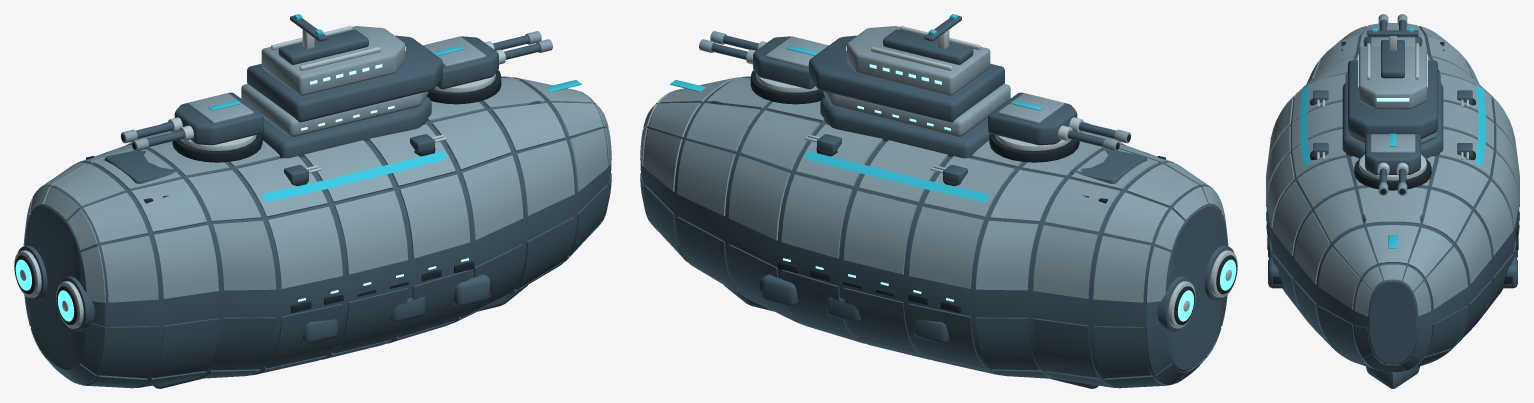
File: capital-warship.glb
3 renders of one model, left to right at view 1: azimuth 30°, elevation 25°; view 2: azimuth 150°, elevation 25°; view 3: azimuth 270°, elevation 25°, orthographic. The views are drawn at different scales.
Visible parts, largest first — view 1: Citadel / armored command deck.002, Battery A / turret armor.002, Battery A / barrel.004, Battery A / barbette.002, Battery A / gun cradle.004, Battery A / muzzle sleeve.004, Faction / curved shoulder stripe.002, Drive / luminous core.004, Battery A / faction marking.002; view 2: Citadel / armored command deck.002, Battery A / turret armor.002, Battery A / barrel.004, Battery A / barbette.002, Battery A / gun cradle.004, Battery A / muzzle sleeve.004, Faction / curved shoulder stripe.002, Drive / luminous core.004, Battery A / faction marking.002; view 3: Citadel / armored command deck.002, Battery A / turret armor.002, Battery A / barrel.004, Battery A / muzzle sleeve.004, Battery A / barbette.002, Faction / curved shoulder stripe.002, Battery A / gun cradle.004, Battery A / faction marking.002, Bridge / armored window.024.
Boxes of the visible parts, x1=… form: Citadel / armored command deck.002: x1=23, y1=26, x2=611, y2=302; Battery A / turret armor.002: x1=24, y1=35, x2=611, y2=388; Battery A / barrel.004: x1=17, y1=15, x2=540, y2=343; Battery A / barbette.002: x1=14, y1=70, x2=501, y2=324; Battery A / gun cradle.004: x1=14, y1=26, x2=505, y2=328; Battery A / muzzle sleeve.004: x1=121, y1=31, x2=552, y2=151; Faction / curved shoulder stripe.002: x1=161, y1=122, x2=447, y2=202; Drive / luminous core.004: x1=15, y1=259, x2=74, y2=321; Battery A / faction marking.002: x1=208, y1=14, x2=581, y2=110; Citadel / armored command deck.002: x1=640, y1=26, x2=1228, y2=302; Battery A / turret armor.002: x1=640, y1=35, x2=1227, y2=388; Battery A / barrel.004: x1=711, y1=15, x2=1234, y2=343; Battery A / barbette.002: x1=750, y1=70, x2=1237, y2=324; Battery A / gun cradle.004: x1=746, y1=26, x2=1237, y2=328; Battery A / muzzle sleeve.004: x1=699, y1=31, x2=1130, y2=151; Faction / curved shoulder stripe.002: x1=804, y1=122, x2=1090, y2=202; Drive / luminous core.004: x1=1177, y1=259, x2=1236, y2=321; Battery A / faction marking.002: x1=670, y1=14, x2=1043, y2=110; Citadel / armored command deck.002: x1=1266, y1=23, x2=1519, y2=316; Battery A / turret armor.002: x1=1266, y1=27, x2=1519, y2=388; Battery A / barrel.004: x1=1268, y1=20, x2=1517, y2=288; Battery A / muzzle sleeve.004: x1=1370, y1=14, x2=1415, y2=195; Battery A / barbette.002: x1=1267, y1=42, x2=1518, y2=283; Faction / curved shoulder stripe.002: x1=1300, y1=85, x2=1485, y2=166; Battery A / gun cradle.004: x1=1317, y1=36, x2=1468, y2=180; Battery A / faction marking.002: x1=1372, y1=28, x2=1413, y2=248; Bridge / armored window.024: x1=1266, y1=54, x2=1519, y2=238.
Bounding box in the file's own units: 25.49 × 13.93 × 11.85.
